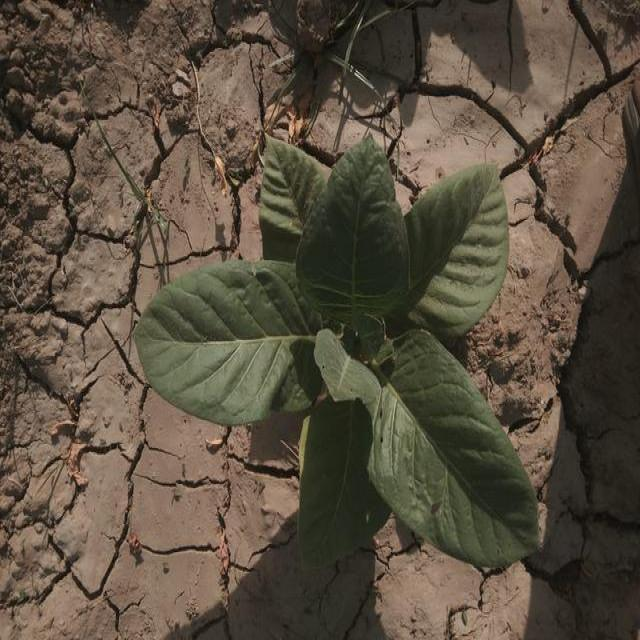crop: (140, 122, 543, 572)
